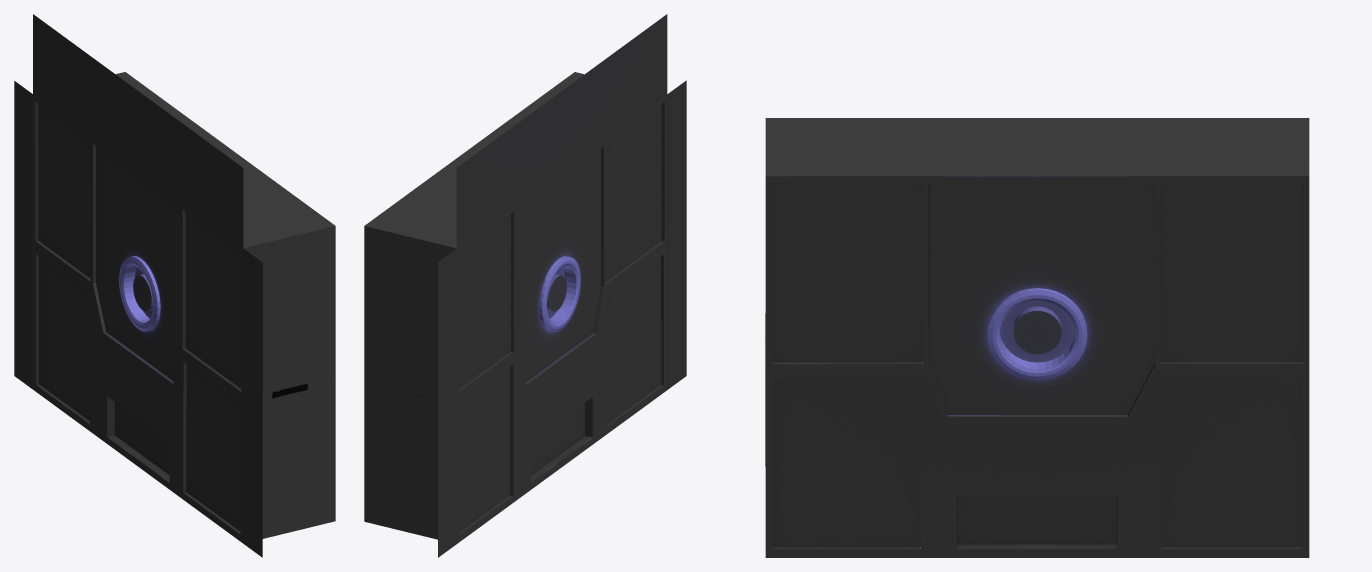
File: porta_corridoi.fbx
The picture shows the model from 3 angles, left to right: view 1: azimuth 30°, elevation 25°; view 2: azimuth 150°, elevation 25°; view 3: azimuth 270°, elevation 25°; orthographic projection. The views are drawn at different scales.
Visible parts, largest first — view 1: Up, Down, Frame; view 2: Up, Down, Frame; view 3: Up, Down.
Boxes of the visible parts, x1=… form: Up: x1=33, y1=72, x2=335, y2=398; Down: x1=33, y1=245, x2=335, y2=542; Frame: x1=14, y1=14, x2=262, y2=557; Up: x1=364, y1=72, x2=666, y2=398; Down: x1=364, y1=245, x2=666, y2=543; Frame: x1=438, y1=14, x2=686, y2=557; Up: x1=765, y1=118, x2=1309, y2=424; Down: x1=765, y1=313, x2=1309, y2=557.
Size of the model in its own units: 1.57 by 5.98 by 7.17.
Materials: 4 (4 with a texture image).
